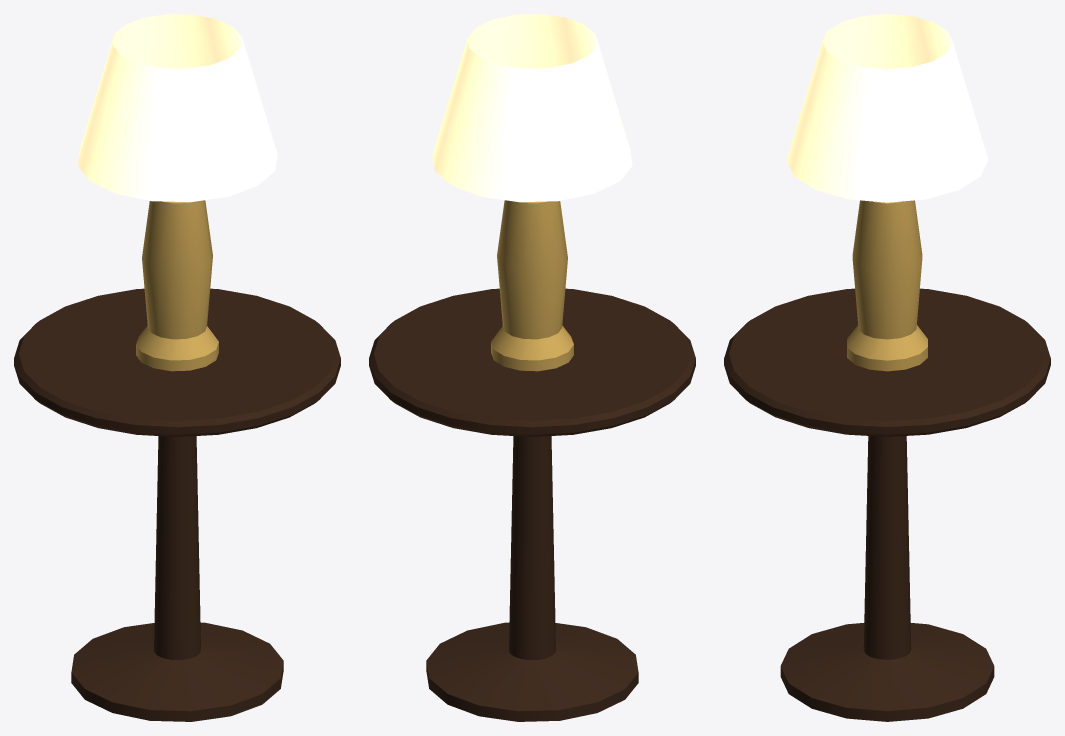
File: side_table.glb
The picture shows the model from 3 angles, left to right: view 1: azimuth 30°, elevation 25°; view 2: azimuth 150°, elevation 25°; view 3: azimuth 270°, elevation 25°; orthographic projection.
Parts seen in each view (by area): view 1: side_table; view 2: side_table; view 3: side_table.
Part boxes in pixels (x1=…): side_table: x1=14, y1=14, x2=340, y2=721; side_table: x1=369, y1=14, x2=695, y2=721; side_table: x1=724, y1=14, x2=1050, y2=721.
Bounding box in the file's own units: 0.55 × 1.18 × 0.55.
